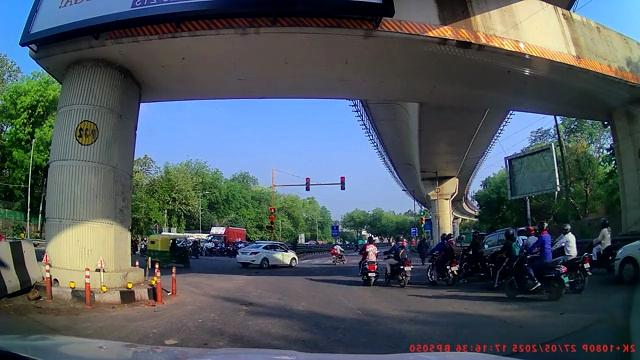motorcycle_with_helmet: (516, 221, 566, 300), (556, 223, 591, 293), (385, 236, 413, 288), (357, 234, 379, 287)
passenger_with_helmet: (425, 232, 459, 286)
